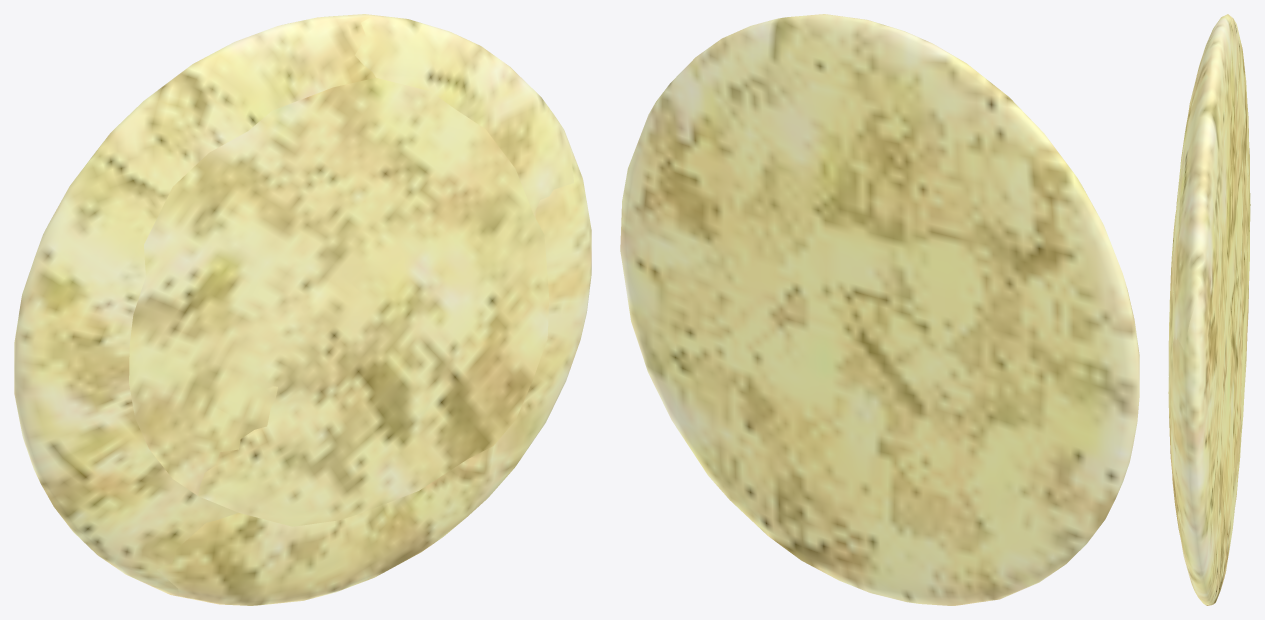
The model's file is Shield_Spell_SR.glb.
3 renders of one model, left to right at view 1: azimuth 30°, elevation 25°; view 2: azimuth 150°, elevation 25°; view 3: azimuth 270°, elevation 25°, orthographic. The views are drawn at different scales.
Visible parts, largest first — view 1: Cylinder.001; view 2: Cylinder.001; view 3: Cylinder.001.
Boxes of the visible parts, bbox=[...] form: Cylinder.001: bbox=[14, 14, 591, 605]; Cylinder.001: bbox=[620, 14, 1139, 605]; Cylinder.001: bbox=[1168, 14, 1250, 605].
Bounding box in the file's own units: 1.58 × 1.59 × 0.2198.
Materials: 1 (1 with a texture image).
